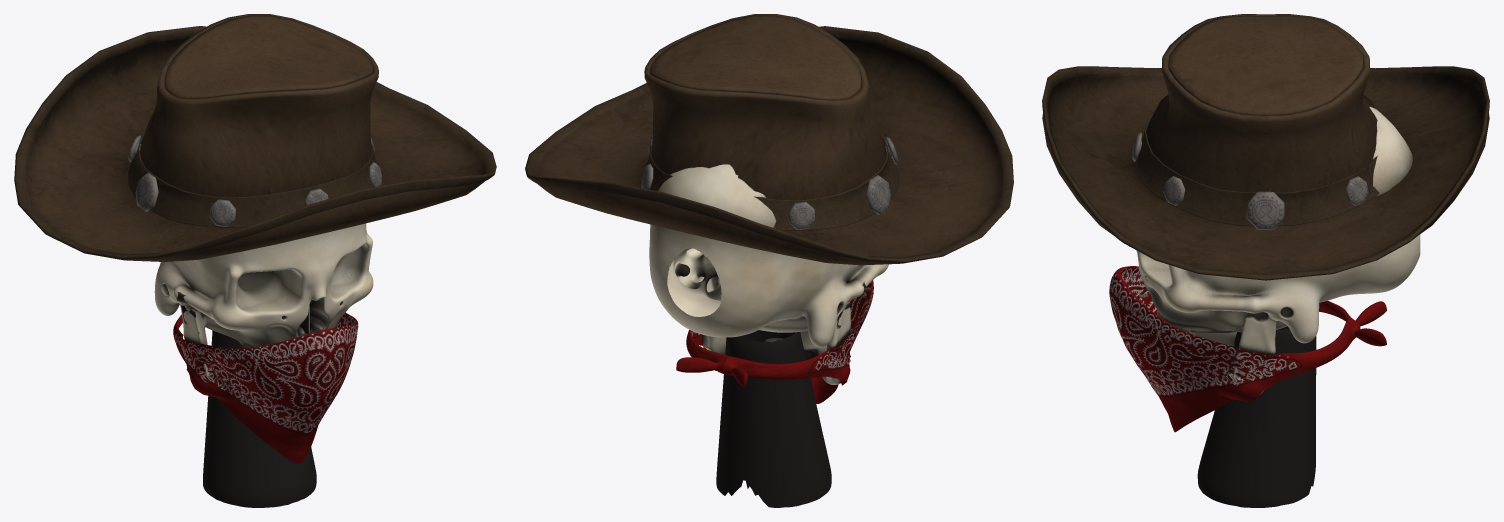
Rendered from mascot.glb.
The picture shows the model from 3 angles, left to right: view 1: azimuth 30°, elevation 25°; view 2: azimuth 150°, elevation 25°; view 3: azimuth 270°, elevation 25°; orthographic projection. The views are drawn at different scales.
Visible parts, largest first — view 1: hat, skull, bandana, neck; view 2: hat, skull, neck, bandana; view 3: hat, skull, bandana, neck.
Part boxes in pixels (left/top/right/bottom): hat: left=14, top=14, right=496, bottom=261; skull: left=154, top=223, right=373, bottom=377; bandana: left=173, top=312, right=358, bottom=463; neck: left=203, top=330, right=316, bottom=507; hat: left=525, top=14, right=1013, bottom=265; skull: left=649, top=164, right=888, bottom=384; neck: left=716, top=330, right=831, bottom=507; bandana: left=676, top=280, right=873, bottom=403; hat: left=1042, top=14, right=1489, bottom=280; skull: left=1129, top=106, right=1420, bottom=394; bandana: left=1109, top=266, right=1386, bottom=432; neck: left=1197, top=326, right=1316, bottom=507.
Size of the model in its own units: 3.41 by 3.27 by 3.01.
Materials: 5 (4 with a texture image).
